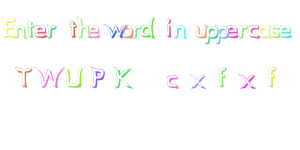E: (1, 13, 20, 40)
K: (110, 64, 139, 92)
P: (86, 63, 110, 92)
T: (11, 63, 34, 91)
U: (64, 63, 85, 91)
W: (33, 64, 65, 91)
a: (256, 17, 272, 42)
c: (162, 69, 183, 92), (247, 18, 262, 43)
d: (139, 12, 158, 40)
e: (33, 20, 47, 43), (278, 21, 294, 41), (225, 20, 239, 42), (86, 22, 102, 41)
f: (261, 61, 287, 91), (210, 63, 235, 90)
h: (76, 13, 92, 43)
i: (161, 17, 174, 40)
n: (12, 20, 28, 41), (173, 21, 189, 42)
o: (119, 22, 134, 42)
p: (214, 20, 230, 47), (205, 21, 219, 48)
r: (45, 19, 63, 42), (236, 19, 249, 42), (129, 21, 143, 40)
s: (269, 20, 282, 42)
t: (62, 14, 80, 39), (24, 14, 36, 42)
u: (193, 20, 209, 41)
w: (102, 19, 125, 42)
x: (233, 68, 262, 93), (185, 70, 214, 92)
